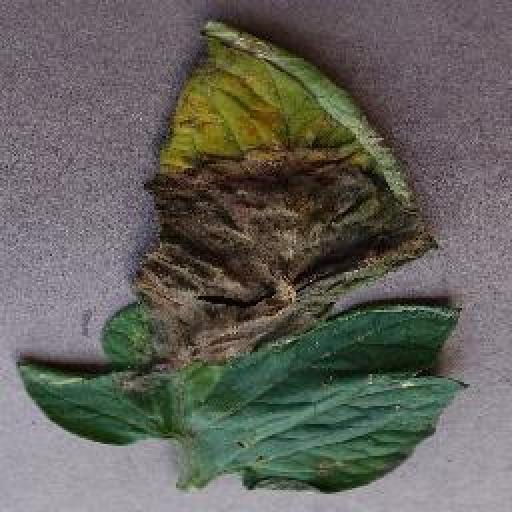Late Blight: (15, 18, 472, 494)
